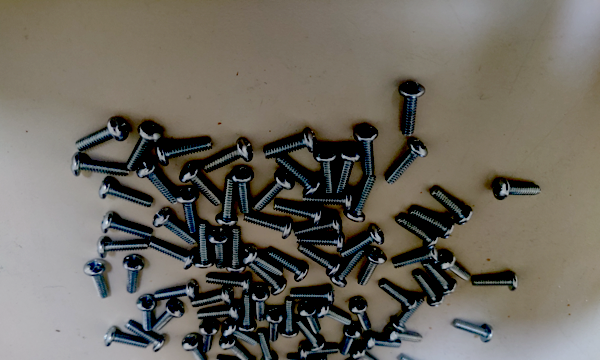shortscrew: (75, 116, 130, 153), (385, 139, 428, 185), (137, 160, 179, 206), (179, 163, 223, 206), (277, 156, 321, 198), (127, 121, 163, 172), (253, 169, 295, 212), (202, 139, 254, 173), (430, 187, 474, 226), (156, 137, 213, 167), (264, 128, 317, 160), (99, 177, 153, 208), (153, 208, 198, 245), (395, 214, 440, 250), (409, 206, 456, 240), (70, 153, 130, 178), (149, 240, 197, 271), (344, 176, 376, 222), (266, 248, 309, 282), (398, 82, 425, 136), (341, 225, 385, 258), (298, 244, 342, 277), (330, 249, 367, 287), (101, 212, 153, 239), (244, 213, 294, 240), (274, 200, 323, 227), (126, 321, 167, 353), (336, 145, 363, 193), (379, 279, 418, 312), (354, 125, 379, 176), (215, 174, 239, 227), (422, 261, 458, 296), (390, 296, 424, 333), (248, 264, 287, 296), (242, 246, 283, 276), (230, 166, 255, 214), (293, 213, 343, 237), (413, 271, 445, 308), (314, 145, 338, 194), (98, 236, 150, 258), (358, 248, 387, 287), (493, 178, 542, 201), (303, 189, 354, 211), (154, 279, 200, 303), (177, 187, 200, 234), (104, 326, 149, 350), (471, 271, 519, 293), (194, 221, 216, 269), (153, 299, 185, 332), (83, 260, 109, 300), (190, 285, 235, 308), (207, 272, 252, 295), (295, 318, 325, 352), (438, 252, 472, 282), (392, 248, 440, 269), (315, 300, 352, 327), (296, 233, 345, 253), (222, 320, 258, 347), (452, 320, 494, 343), (208, 228, 231, 270), (225, 227, 246, 273), (290, 286, 336, 306), (197, 303, 242, 323), (123, 254, 145, 294), (298, 300, 322, 335), (220, 333, 251, 360), (237, 292, 257, 333), (297, 341, 340, 360), (349, 296, 372, 331), (363, 331, 402, 351), (136, 294, 156, 332), (251, 285, 270, 322), (182, 333, 208, 360), (341, 323, 362, 356), (257, 329, 279, 360), (199, 319, 219, 353), (384, 327, 423, 344), (350, 342, 381, 360), (286, 354, 328, 360), (216, 354, 256, 360), (398, 355, 434, 360), (342, 358, 373, 360)
